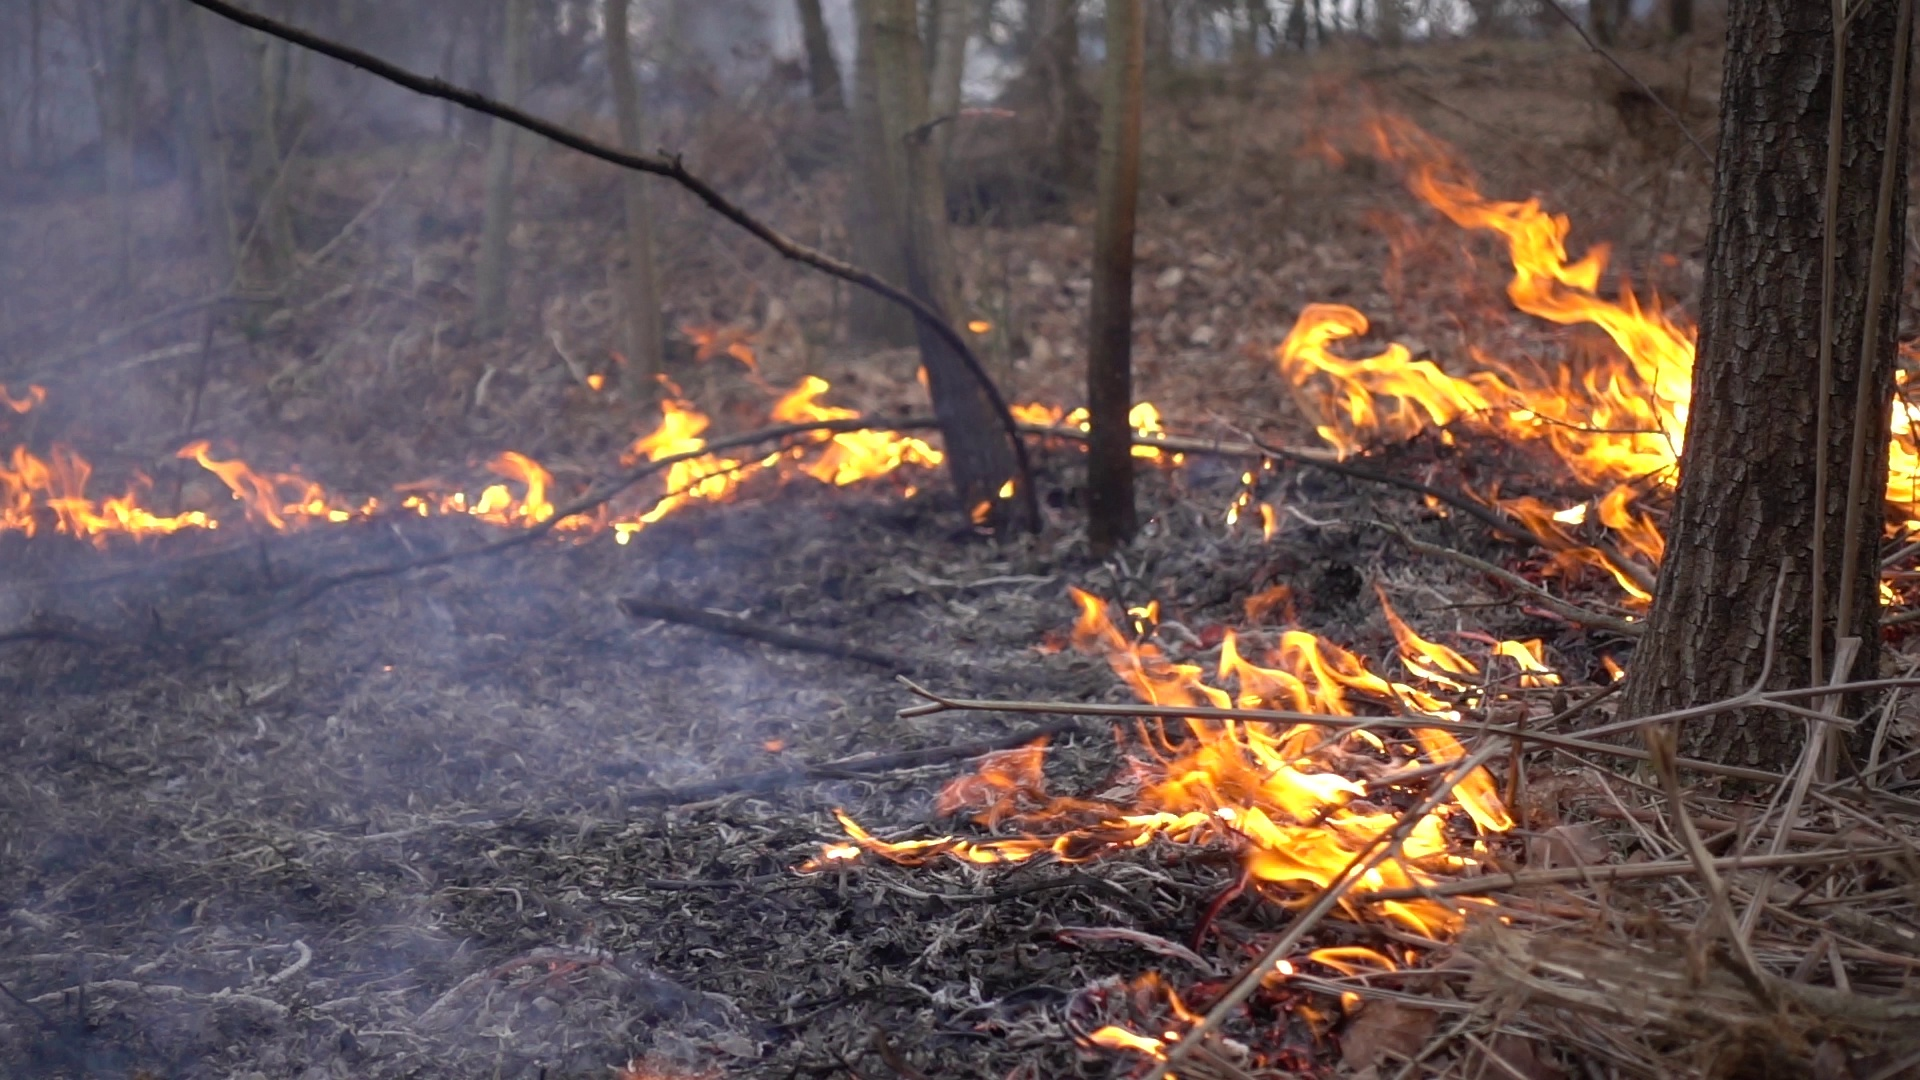fire: (1013, 612, 1549, 949), (1279, 181, 1697, 553), (636, 375, 931, 516), (1, 454, 207, 531), (199, 438, 332, 531), (407, 446, 549, 524), (1886, 393, 1920, 502)
